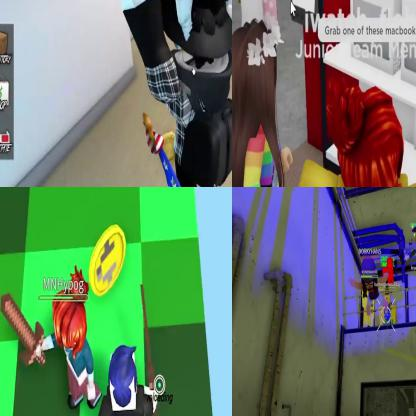Roblox-Avatar: (118, 1, 232, 187), (287, 77, 416, 187), (233, 18, 302, 187), (37, 266, 103, 411), (96, 345, 159, 416), (349, 257, 389, 316), (233, 1, 270, 29), (405, 214, 416, 280)
